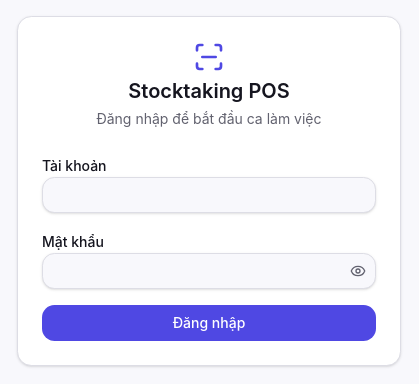
Test case: LoginPage › shows the typed password while the eye is on, and hides it again
Type "staff-pass-123" into the password field labelled "Mật khẩu" at (209, 271), box [42,253,376,289]
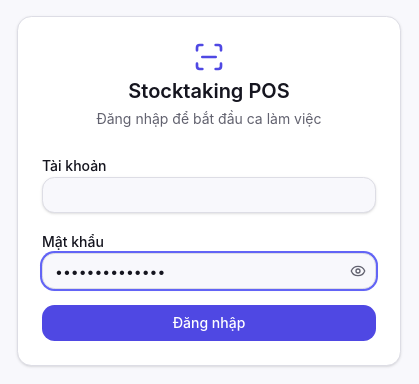
Click the button named "Hiện mật khẩu" at (358, 271), box [340,253,376,289]
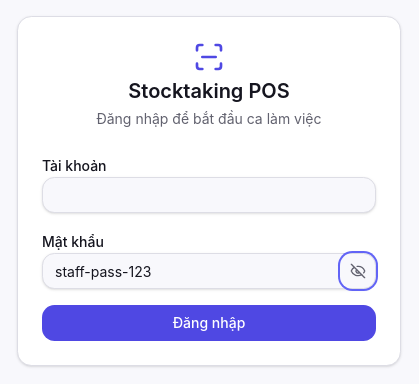
Expected: the field labelled "Mật khẩu" shows its text, [42,253,376,289]
Click the button named "Ẩn mật khẩu" at (358, 271), box [340,253,376,289]
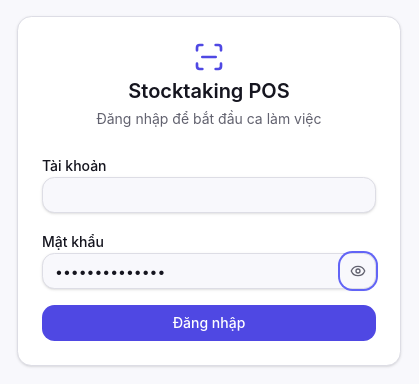
Expected: the password field labelled "Mật khẩu" hides its text, [42,253,376,289]
